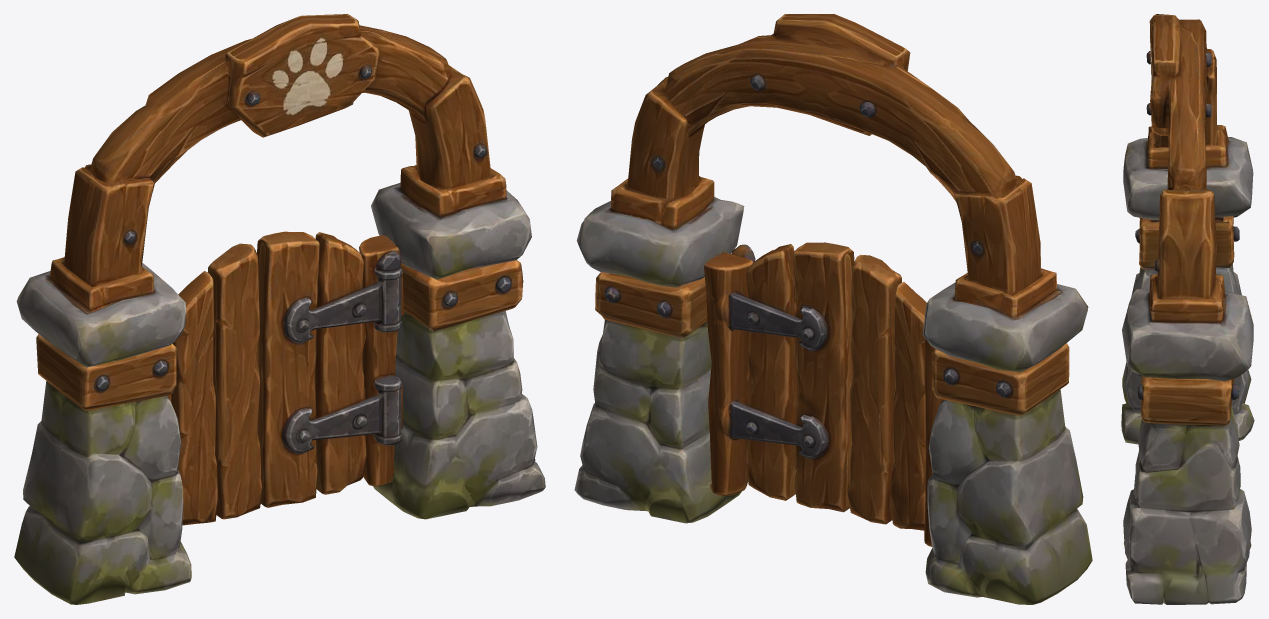
File: enclos_porte.glb
3 views of the same model, side by side, from view 1: azimuth 30°, elevation 25°; view 2: azimuth 150°, elevation 25°; view 3: azimuth 270°, elevation 25° (orthographic). The views are drawn at different scales.
Size of the model in its own units: 0.9365 by 0.9536 by 0.2426.
1 material, 1 textured.
